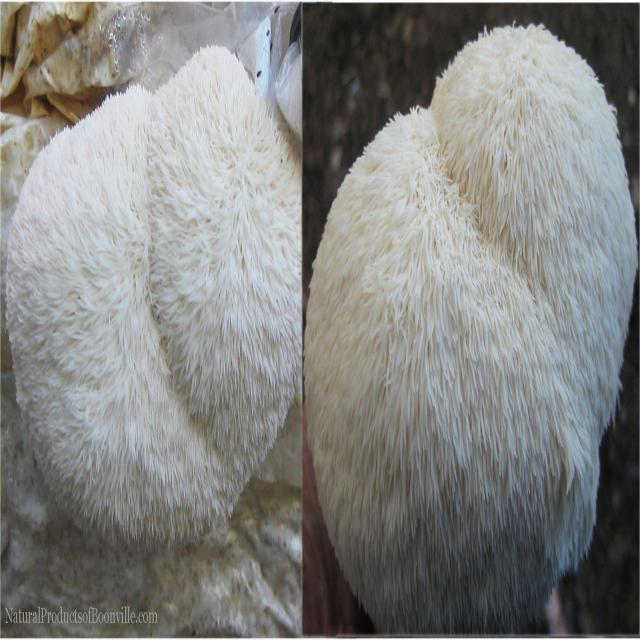Hericium erinaceus: (306, 23, 638, 629), (10, 45, 301, 553)
